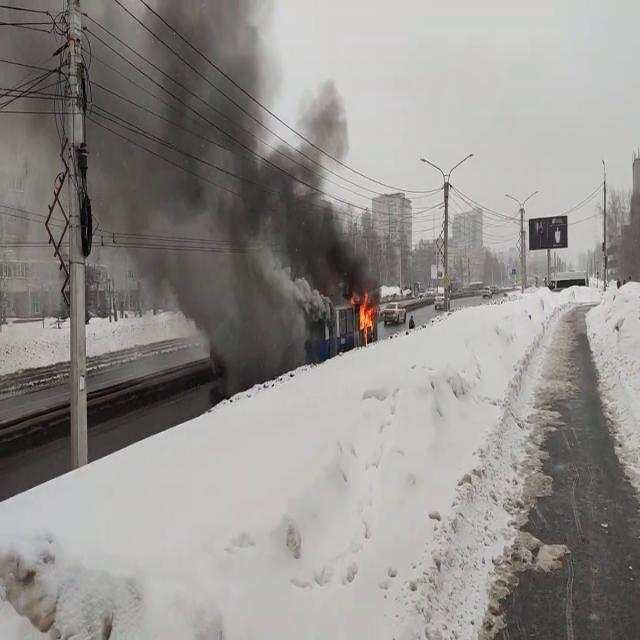Fire: (354, 288, 376, 342)
Smoke: (95, 0, 375, 365)
